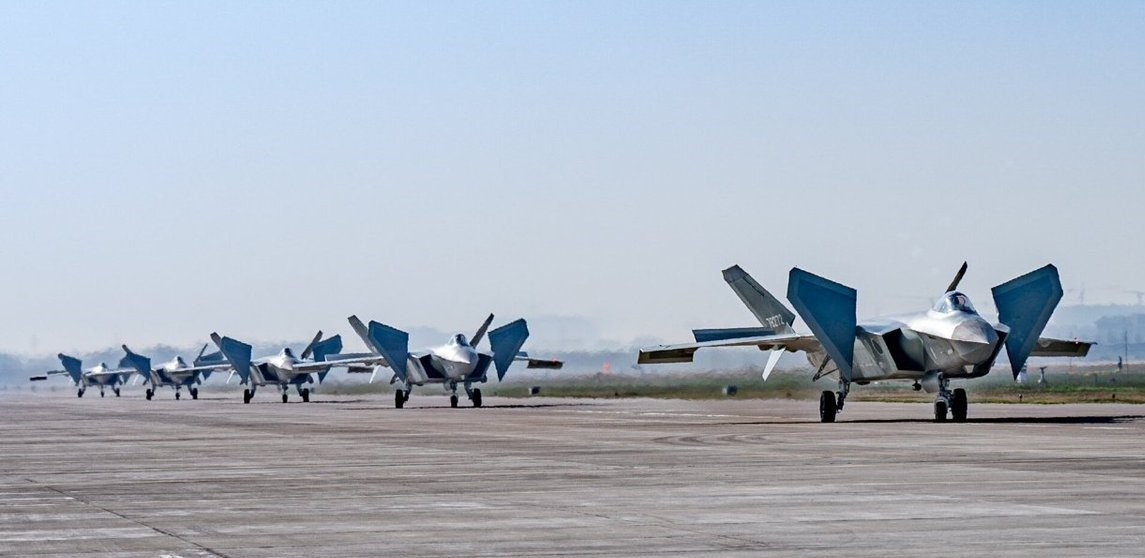J20: (637, 261, 1099, 423), (291, 312, 567, 408), (167, 329, 375, 404), (85, 341, 224, 401), (29, 352, 134, 399)
